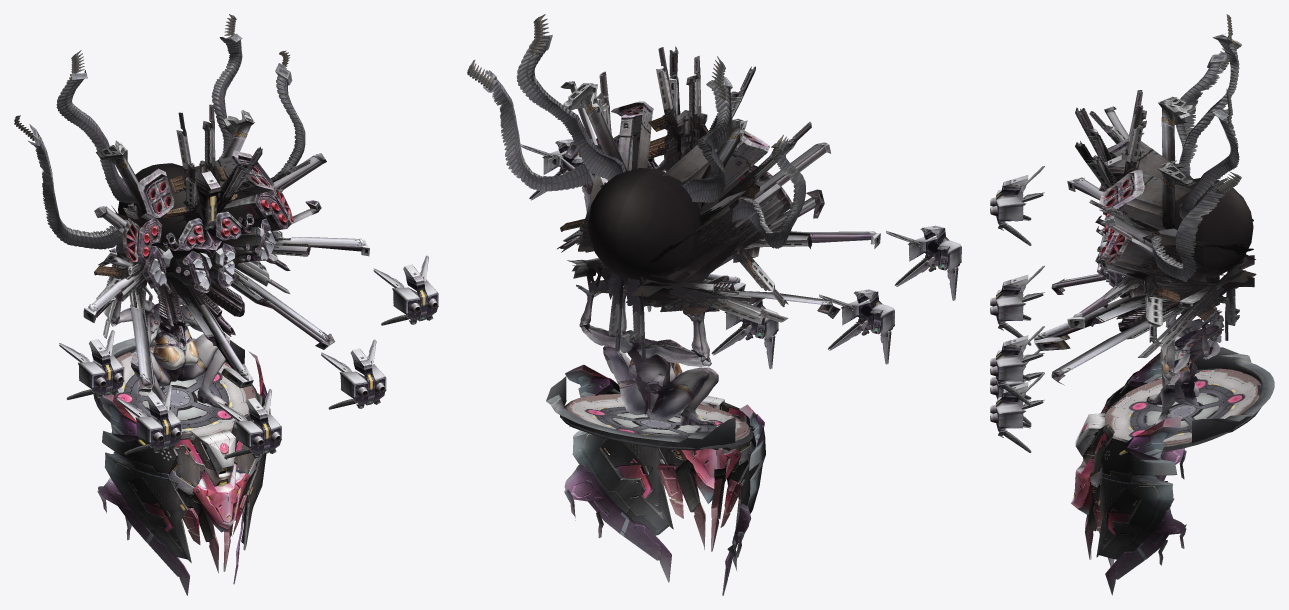
File: xba003_dmtr__xbga03_2phase.glb
3 renders of one model, left to right at view 1: azimuth 30°, elevation 25°; view 2: azimuth 150°, elevation 25°; view 3: azimuth 270°, elevation 25°, orthographic. The views are drawn at different scales.
Parts seen in each view (by area): view 1: xba003_dmtr_xbga03_2phase_var; view 2: xba003_dmtr_xbga03_2phase_var; view 3: xba003_dmtr_xbga03_2phase_var.
Part boxes in pixels (<box>): xba003_dmtr_xbga03_2phase_var: <box>14,14,438,595</box>; xba003_dmtr_xbga03_2phase_var: <box>467,14,961,595</box>; xba003_dmtr_xbga03_2phase_var: <box>990,14,1274,595</box>.
Bounding box in the file's own units: 29.24 × 39.02 × 18.89.
12 materials, 12 textured.
